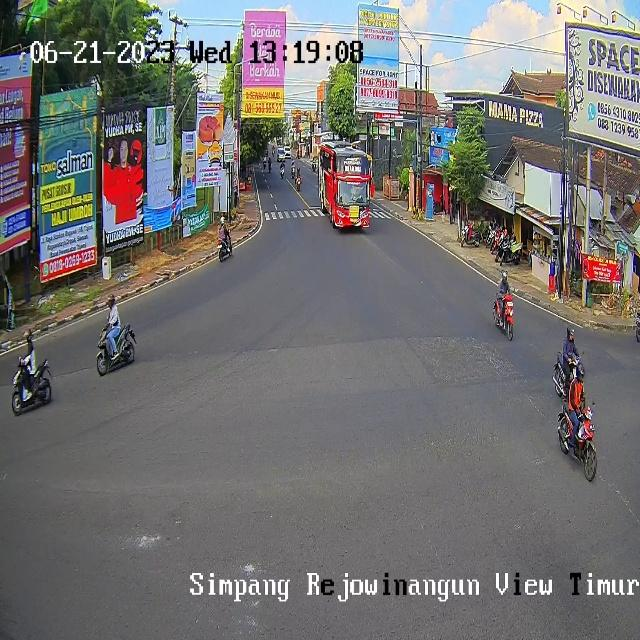bus: (558, 402, 598, 481), (10, 354, 53, 416), (96, 323, 136, 376), (554, 351, 584, 397), (493, 296, 515, 339), (217, 227, 232, 264), (295, 176, 302, 191), (292, 164, 296, 179), (280, 166, 284, 178)
car: (318, 140, 371, 227)
